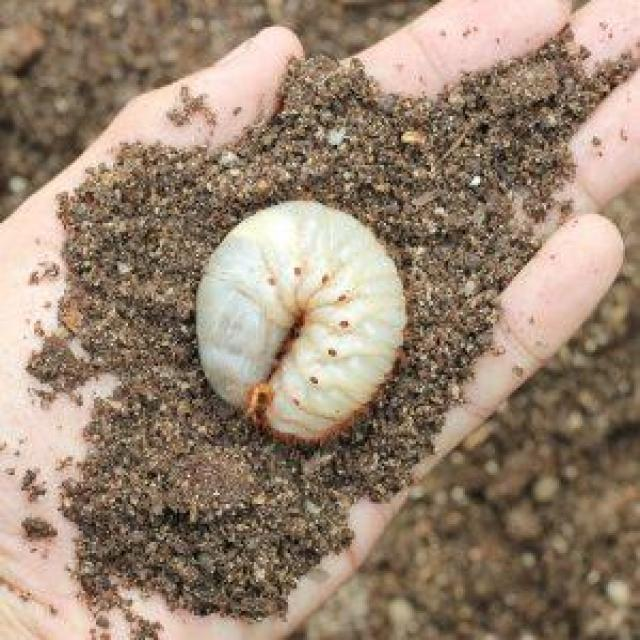Grub-Adult-: (168, 186, 446, 468)
